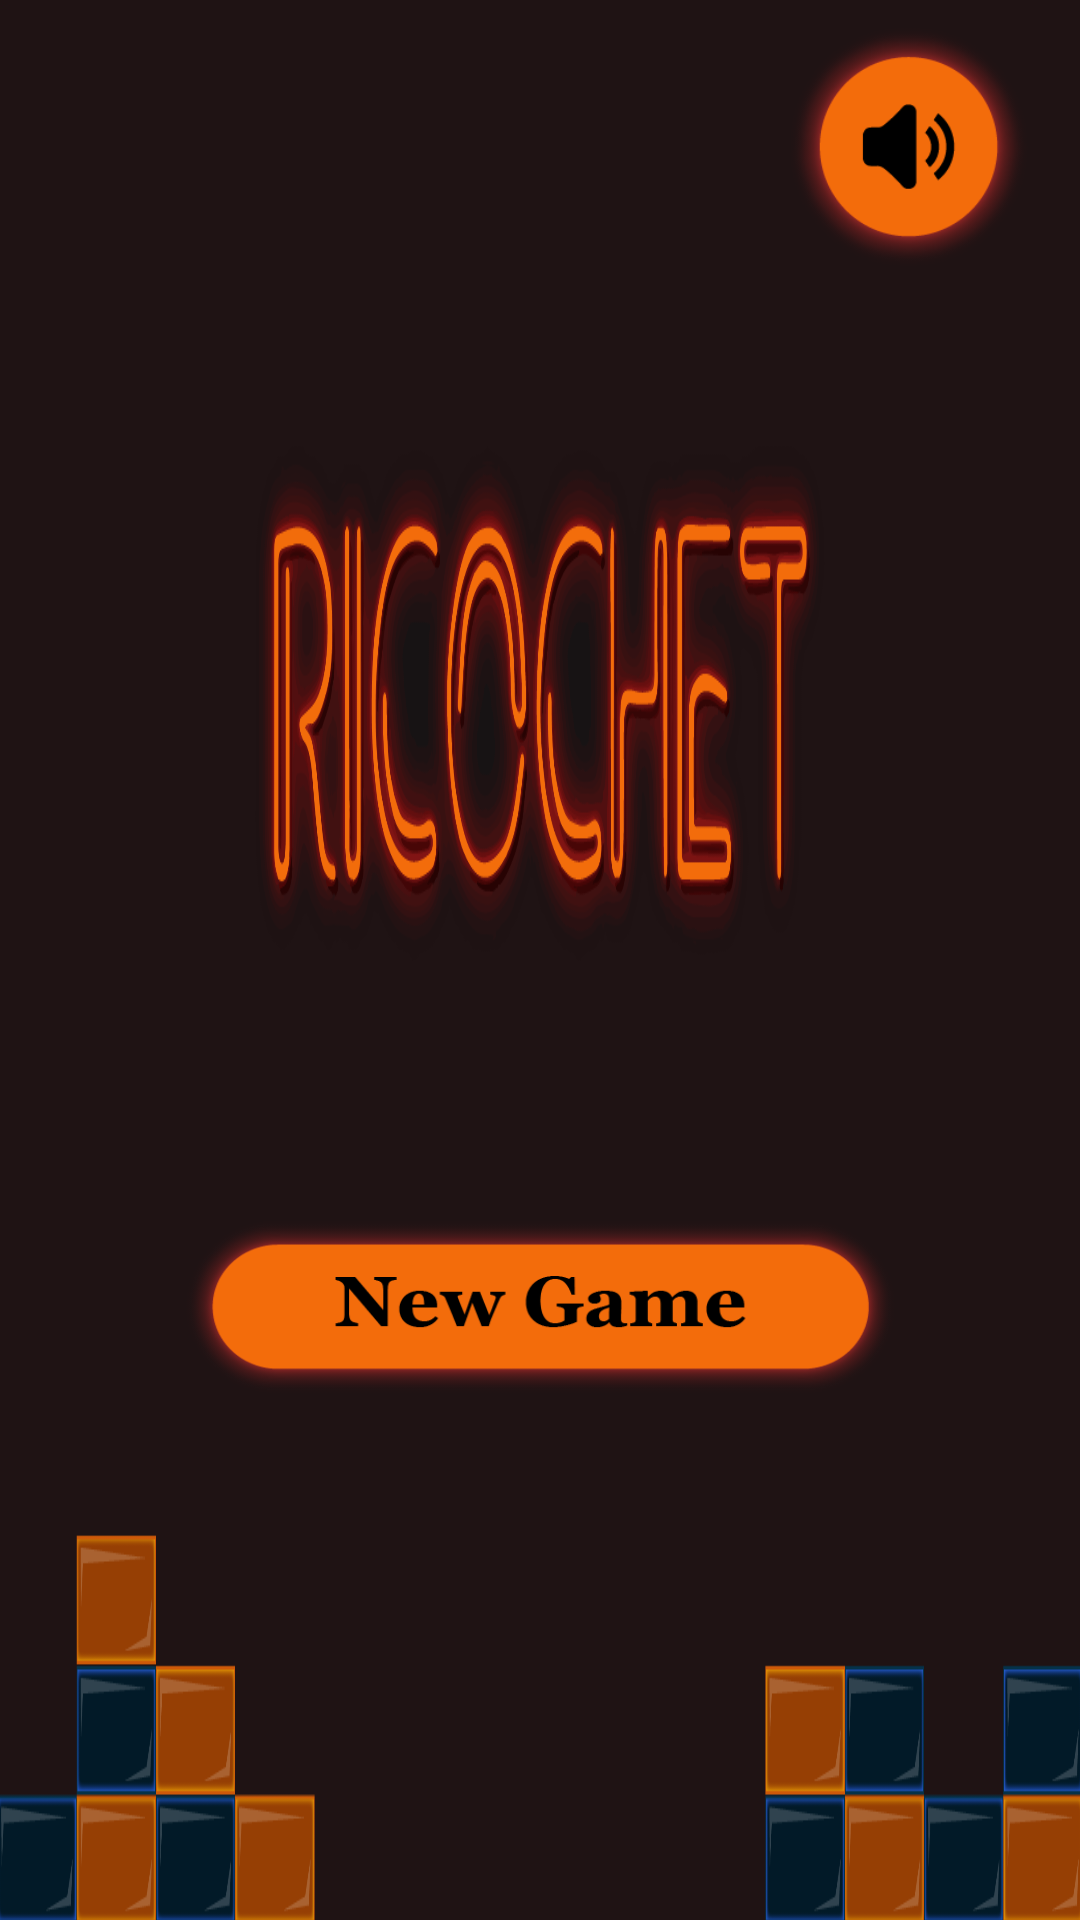

Where to tap for icons on this 1080 × 1920 app screen, as [x,y]:
volume: [909,147]
